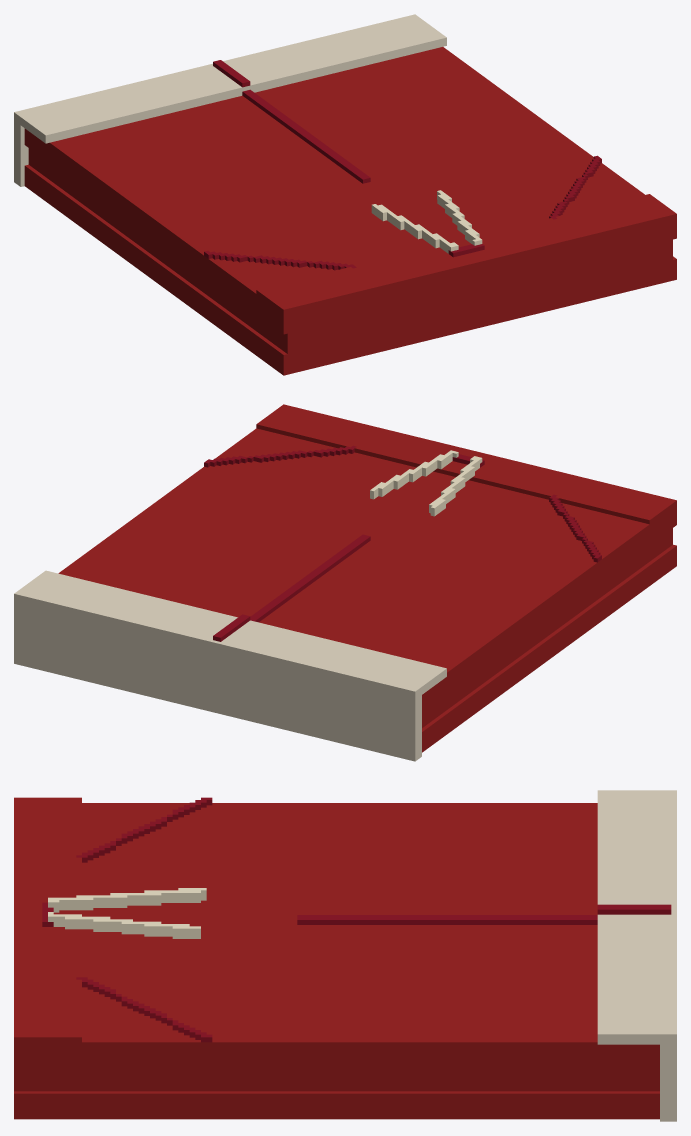
File: santa_pants.glb
The picture shows the model from 3 angles, top to bottom: view 1: azimuth 30°, elevation 25°; view 2: azimuth 150°, elevation 25°; view 3: azimuth 270°, elevation 25°; orthographic projection. The views are drawn at different scales.
Parts seen in each view (by area): view 1: santa_pants:compound; view 2: santa_pants:compound; view 3: santa_pants:compound.
Boxes of the visible parts, x1,y1,x2,y2 form: santa_pants:compound: [14, 14, 676, 375]; santa_pants:compound: [14, 404, 676, 761]; santa_pants:compound: [14, 790, 676, 1121].
Size of the model in its own units: 0.408 by 0.072 by 0.468.
